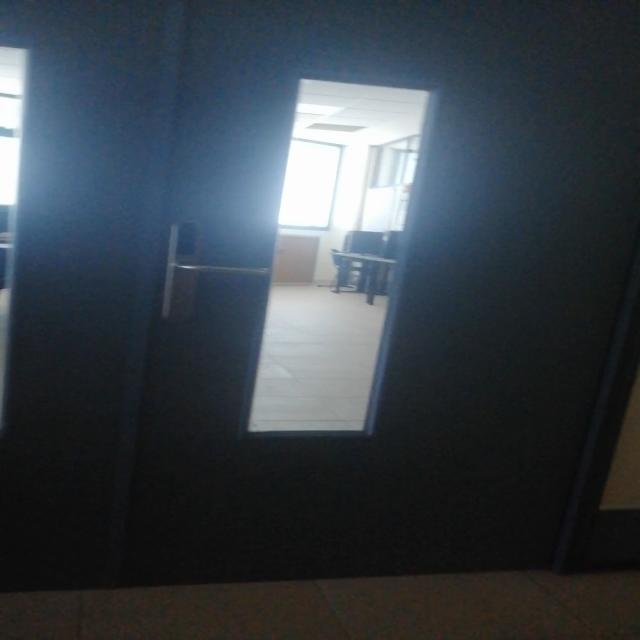door_handle: (171, 262, 272, 278)
